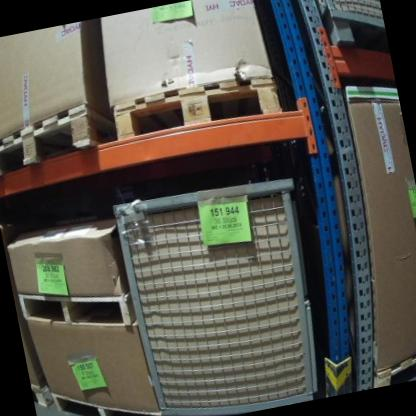pallet: (108, 68, 284, 146), (15, 273, 138, 345), (0, 99, 114, 176), (50, 376, 164, 416), (366, 340, 416, 388)
stillage: (107, 160, 336, 416), (309, 0, 388, 57)
